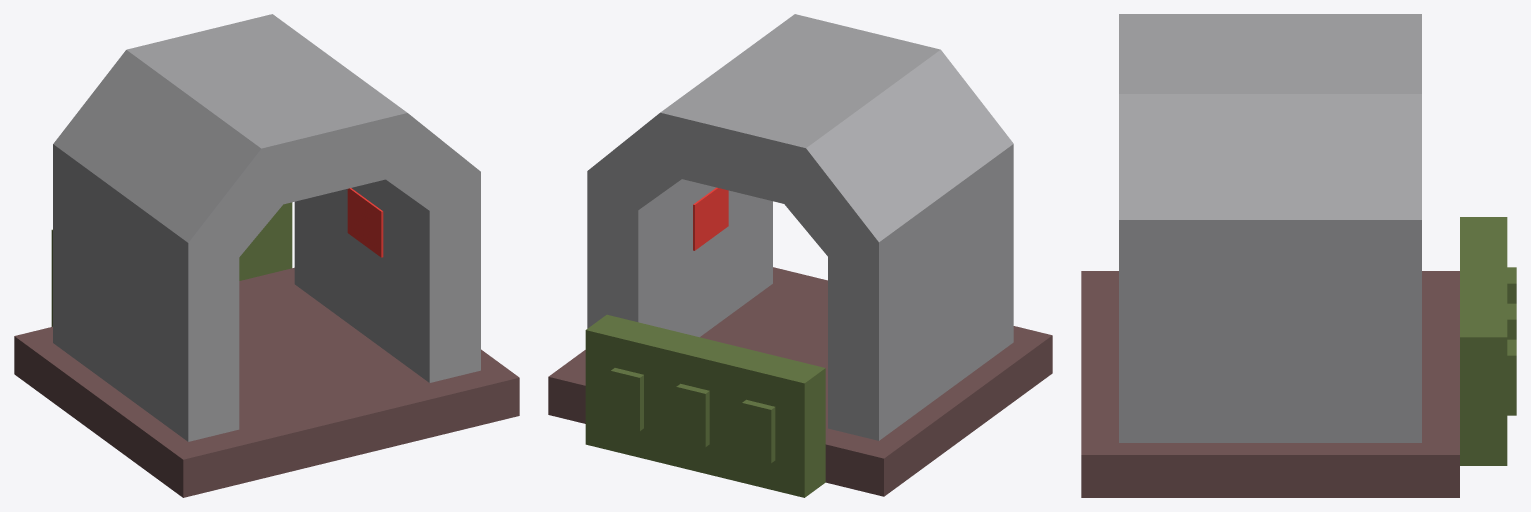
Rendered from vge_basic_recharger.obj.
The picture shows the model from 3 angles, left to right: view 1: azimuth 30°, elevation 25°; view 2: azimuth 150°, elevation 25°; view 3: azimuth 270°, elevation 25°; orthographic projection. The views are drawn at different scales.
Parts seen in each view (by area): view 1: vge_basic_recharger_1, vge_basic_recharger_0, vge_basic_recharger_4, vge_basic_recharger_3; view 2: vge_basic_recharger_1, vge_basic_recharger_4, vge_basic_recharger_0, vge_basic_recharger_5, vge_basic_recharger_6, vge_basic_recharger_7, vge_basic_recharger_3; view 3: vge_basic_recharger_1, vge_basic_recharger_0, vge_basic_recharger_4, vge_basic_recharger_7.
Part boxes in pixels (x1=…): vge_basic_recharger_1: x1=53, y1=14, x2=480, y2=441; vge_basic_recharger_0: x1=14, y1=267, x2=519, y2=497; vge_basic_recharger_4: x1=51, y1=202, x2=292, y2=326; vge_basic_recharger_3: x1=347, y1=188, x2=383, y2=257; vge_basic_recharger_1: x1=587, y1=14, x2=1013, y2=440; vge_basic_recharger_4: x1=585, y1=314, x2=825, y2=497; vge_basic_recharger_0: x1=548, y1=267, x2=1052, y2=496; vge_basic_recharger_5: x1=742, y1=399, x2=775, y2=463; vge_basic_recharger_6: x1=676, y1=383, x2=709, y2=447; vge_basic_recharger_7: x1=610, y1=368, x2=643, y2=431; vge_basic_recharger_3: x1=693, y1=187, x2=728, y2=250; vge_basic_recharger_1: x1=1119, y1=14, x2=1421, y2=442; vge_basic_recharger_0: x1=1081, y1=271, x2=1459, y2=497; vge_basic_recharger_4: x1=1460, y1=217, x2=1507, y2=465; vge_basic_recharger_7: x1=1507, y1=339, x2=1516, y2=415.
Size of the model in its own units: 0.92 by 0.82 by 0.92.
